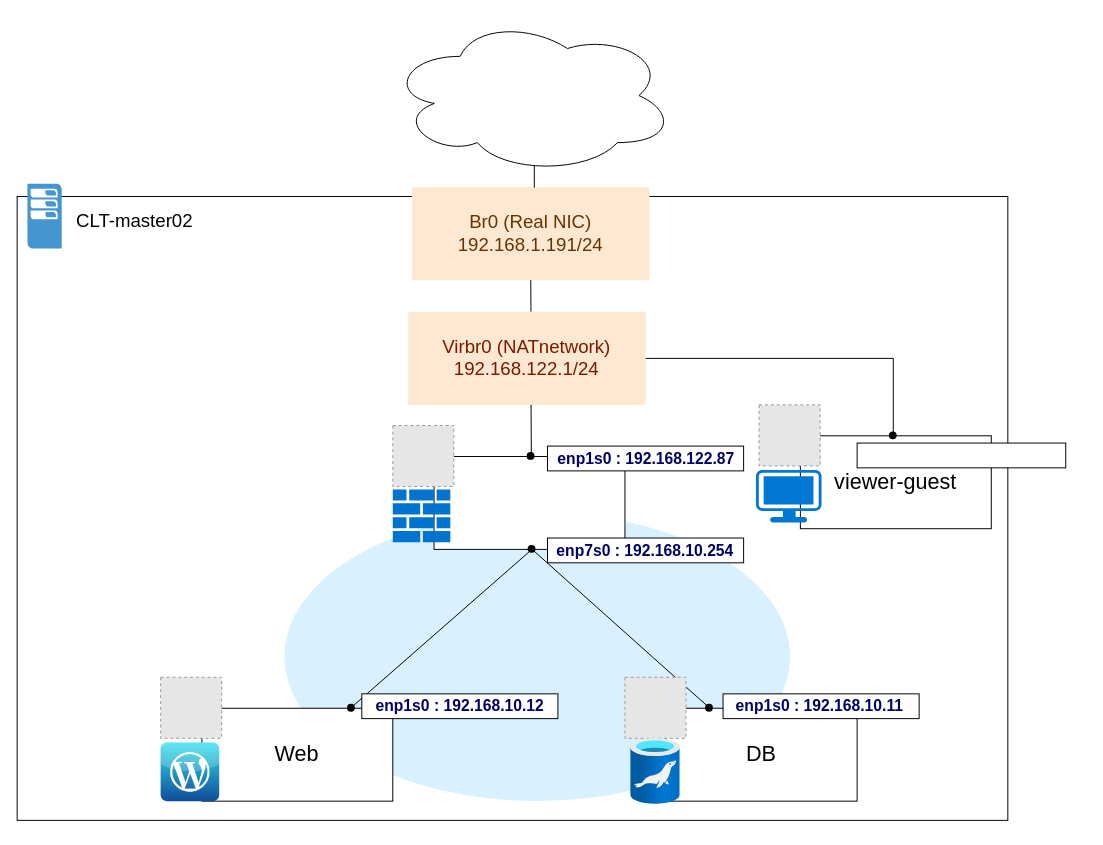
The diagram is 1103 pixels wide and 845 high, and some of its shapes have lost their labels. Grey dashed boxes stand in for pictures. Each missing label, with the box of its shape:
enp1s0 : 192.168.122.13: (856, 442, 1066, 468)
Isolated Network 192.168.10.1/24: (284, 512, 790, 801)
rhel8: (433, 456, 625, 549)
Uplink: (388, 16, 675, 174)
